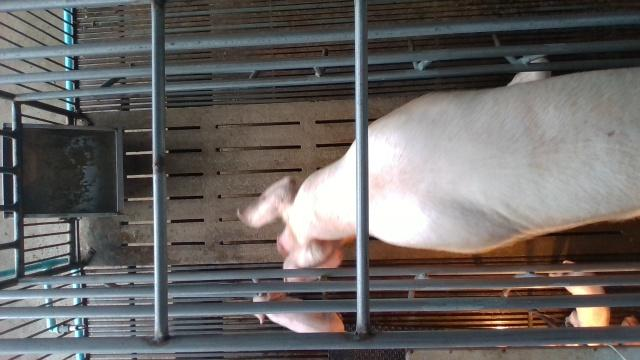piglet: (549, 260, 611, 326), (253, 292, 346, 333)
sow-stand: (235, 67, 640, 282)
